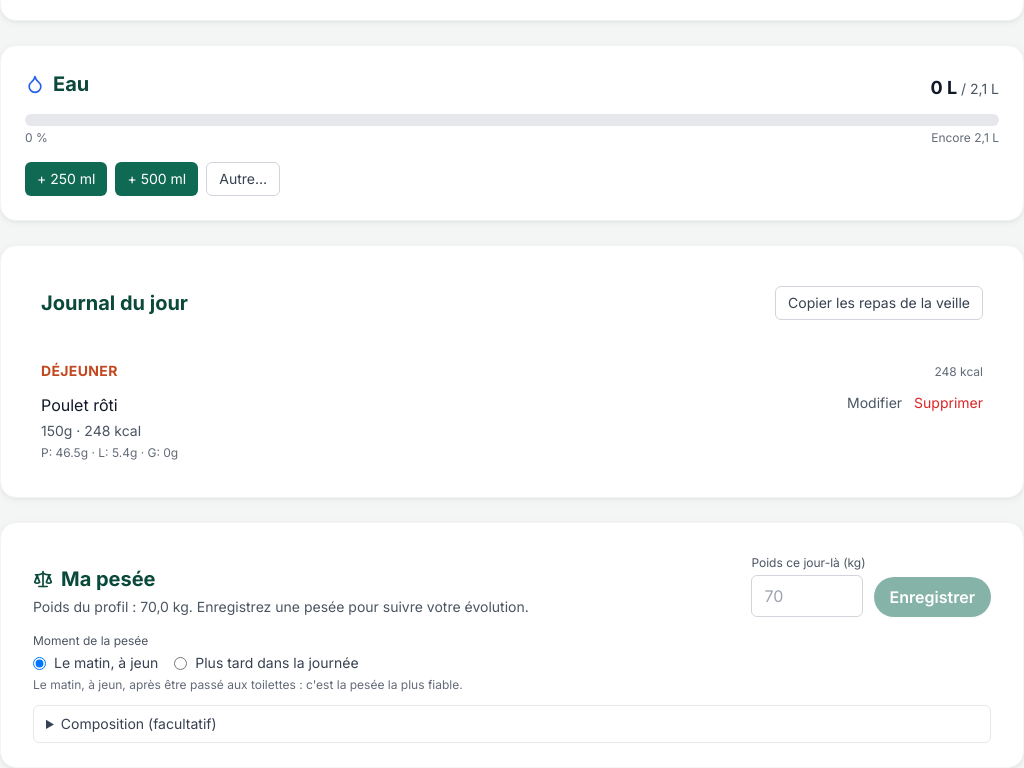
it: Dashboard › suppression › affiche une erreur si la suppression échoue
The image size is (1024, 768).
(page scrolled)
Click the button with aria-label "Supprimer Poulet rôti".
click(949, 403)  # box 914,393 -> 983,413
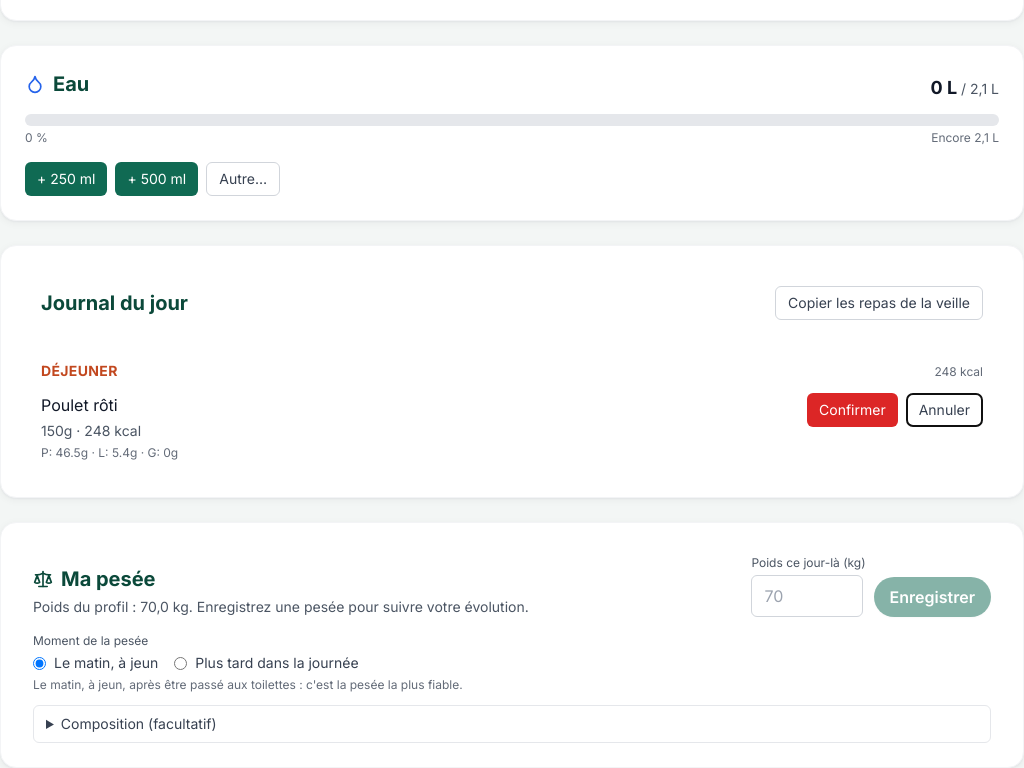
Click the button with aria-label "Confirmer la suppression de « Poulet rôti »".
click(852, 410)  # box 807,393 -> 898,427
(page scrolled)
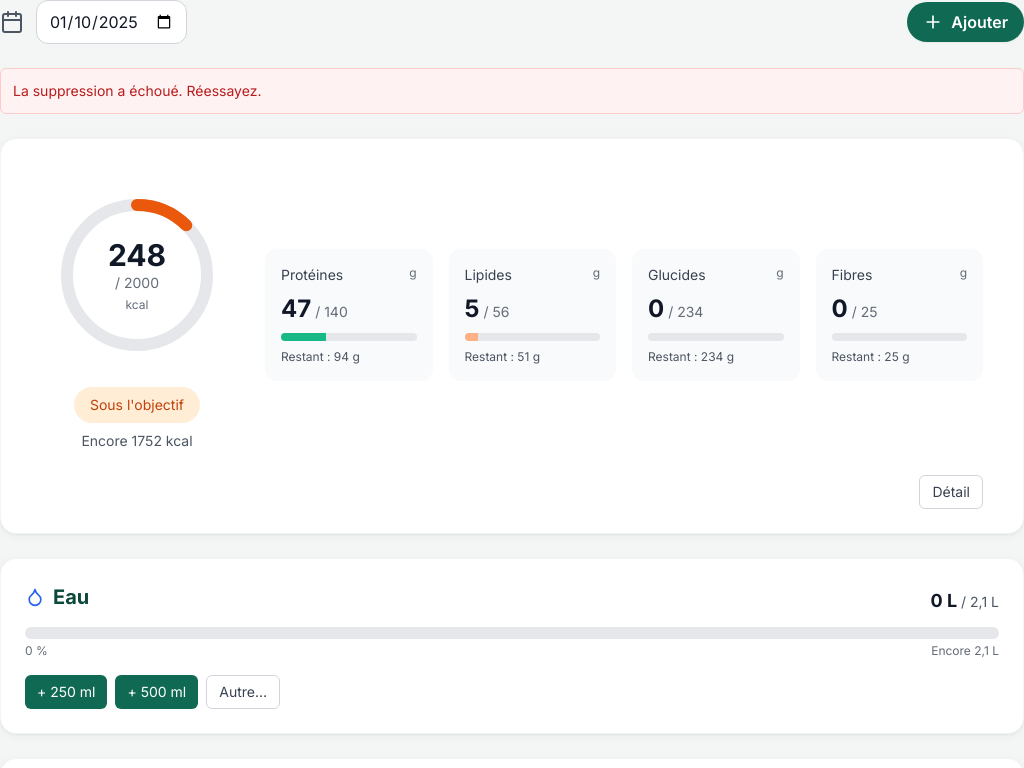
Expected: the message shows "La suppression a échoué", 13,82 -> 261,99
